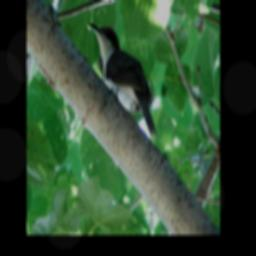Cuckoo: (87, 22, 158, 139)
